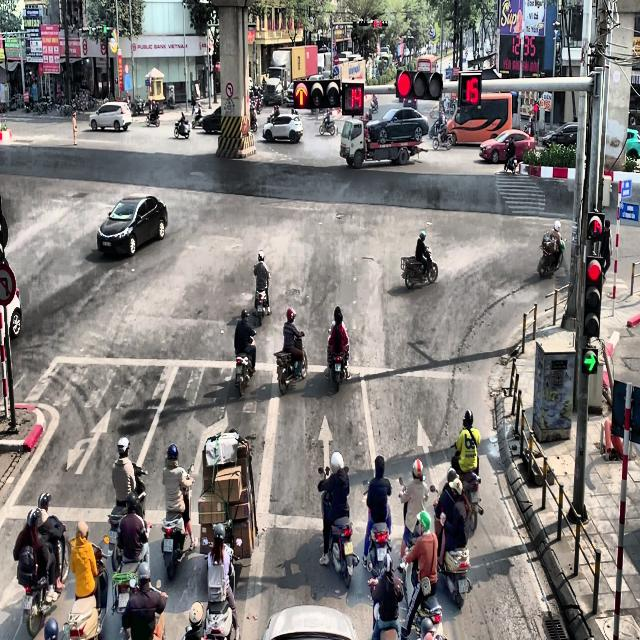CAR: (96, 195, 168, 257), (263, 604, 359, 640), (366, 107, 429, 139), (480, 129, 536, 164), (89, 102, 132, 132), (262, 114, 303, 143), (626, 128, 640, 160)
MOTORBIKE: (20, 529, 72, 638), (430, 485, 472, 609), (59, 538, 110, 640), (317, 467, 359, 588), (398, 555, 447, 639), (160, 465, 194, 580), (106, 462, 148, 554), (362, 479, 393, 575), (450, 443, 483, 531), (274, 331, 307, 395), (400, 247, 438, 289), (325, 328, 350, 391), (234, 336, 256, 396), (538, 236, 566, 277), (254, 273, 271, 324), (432, 124, 452, 150), (319, 109, 336, 135), (174, 116, 191, 138), (192, 102, 204, 128), (504, 150, 517, 173), (146, 107, 160, 126), (250, 104, 258, 132), (370, 100, 378, 113)
TRAFFIC_LIGHT: (395, 68, 443, 100), (584, 254, 602, 338), (458, 71, 482, 107), (342, 82, 364, 115), (587, 211, 604, 241), (373, 19, 388, 28), (103, 24, 107, 34)
